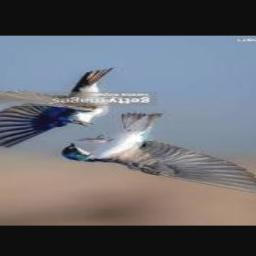Swallow: (62, 113, 256, 196), (0, 69, 113, 148)
